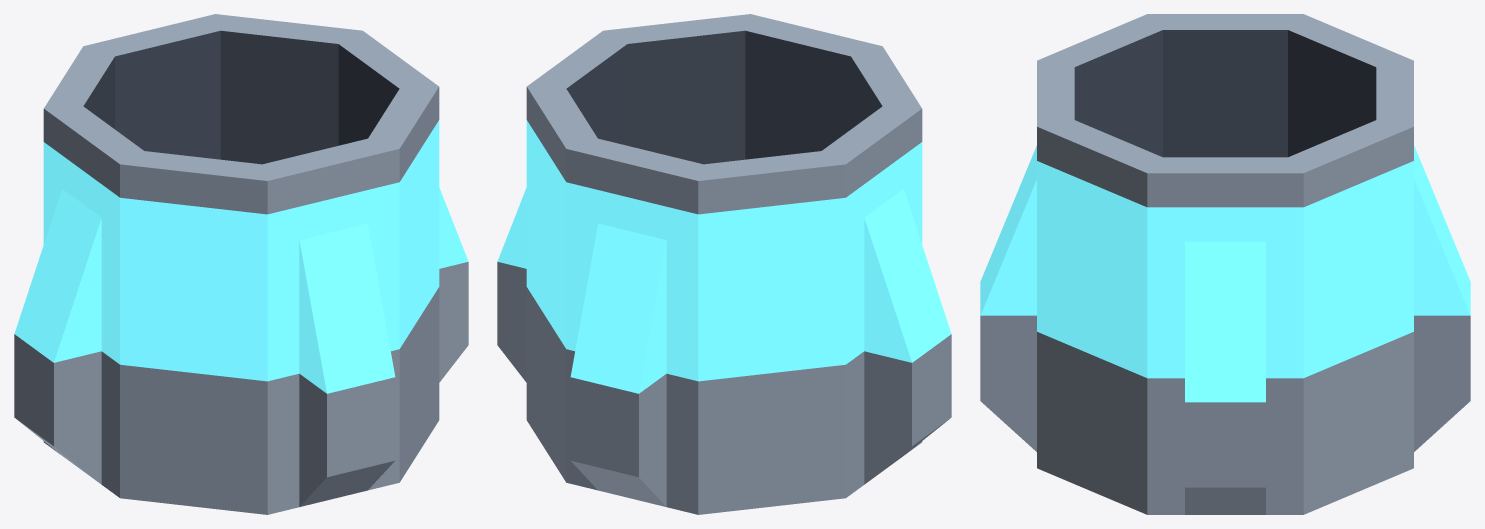
Rendered from rocket_sidesB.glb.
3 views of the same model, side by side, from view 1: azimuth 30°, elevation 25°; view 2: azimuth 150°, elevation 25°; view 3: azimuth 270°, elevation 25° (orthographic). The views are drawn at different scales.
Visible parts, largest first — view 1: rocket_sidesB; view 2: rocket_sidesB; view 3: rocket_sidesB.
Boxes of the visible parts, x1,y1,x2,y2 form: rocket_sidesB: (14,14,468,514); rocket_sidesB: (497,14,951,514); rocket_sidesB: (980,14,1470,514).
Bounding box in the file's own units: 1.3 × 1 × 1.3.
